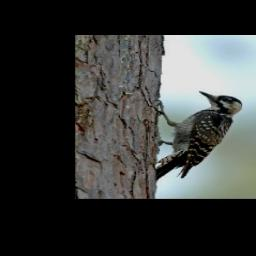Woodpecker: (146, 91, 245, 183)
